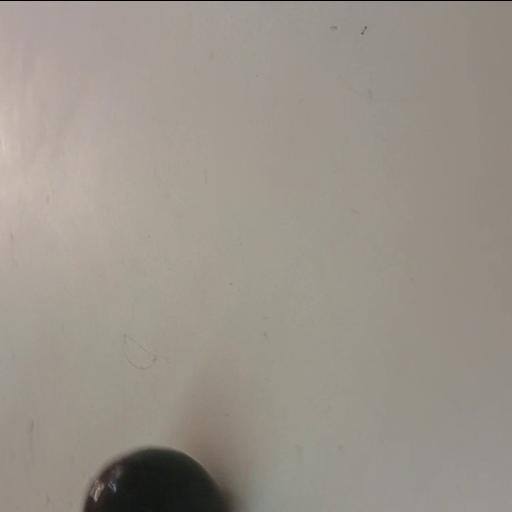dead: (86, 447, 220, 511)
